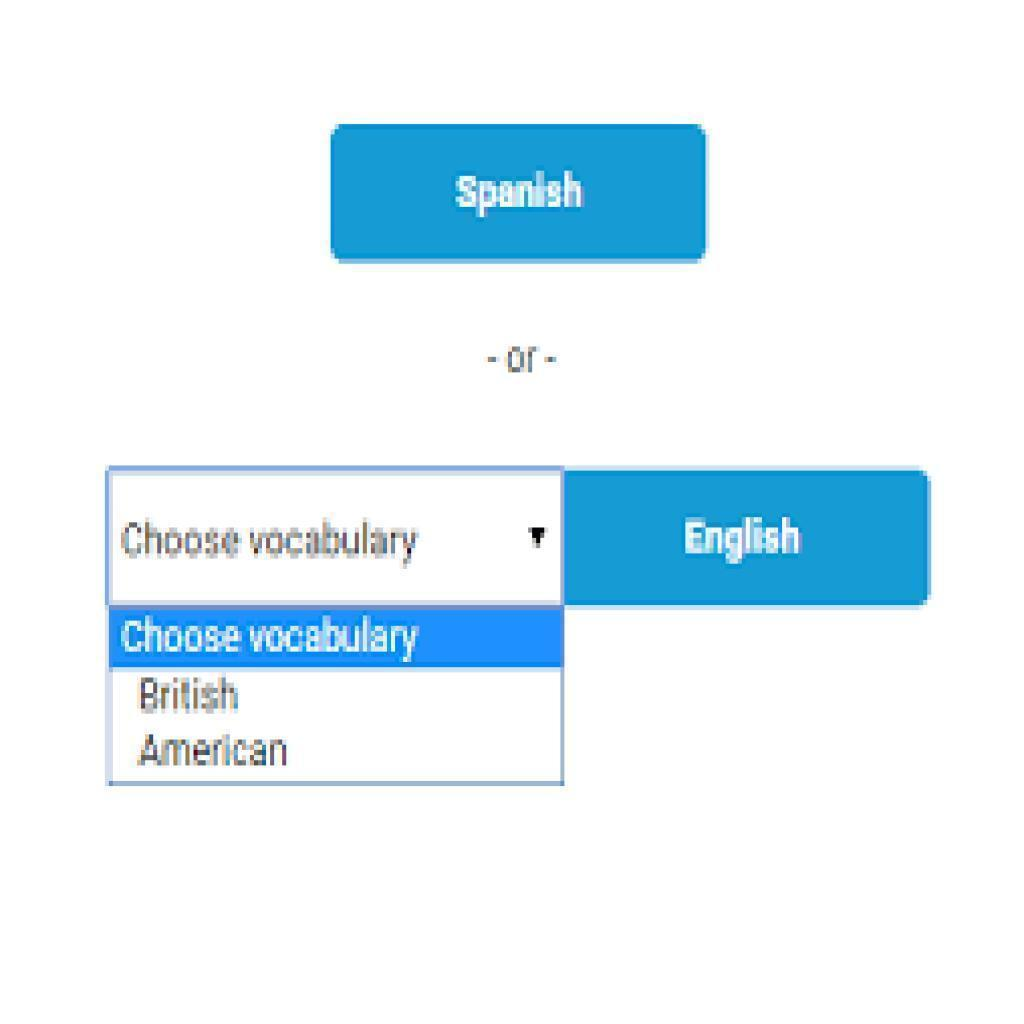button: (331, 121, 706, 259), (563, 469, 931, 608), (106, 603, 565, 670)
dropdown: (104, 469, 565, 608)
